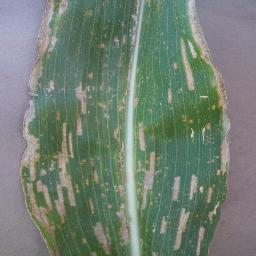Gray_Leaf_Spot: (69, 109, 235, 256), (18, 0, 70, 255), (75, 0, 140, 109), (178, 0, 231, 109), (162, 84, 175, 109), (171, 52, 178, 73)
